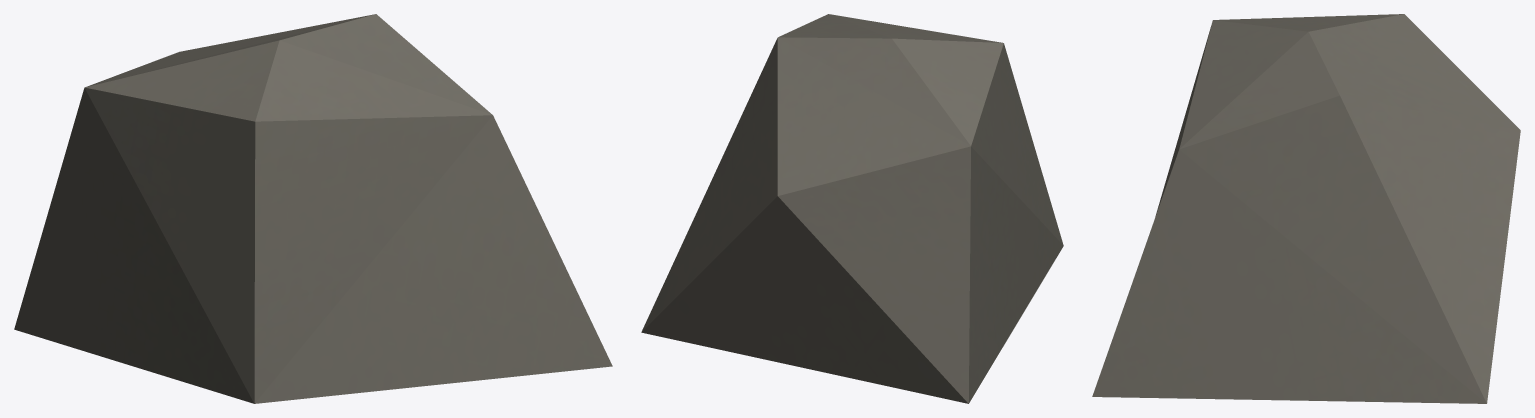
File: Rock_Single_1E.fbx
3 renders of one model, left to right at view 1: azimuth 30°, elevation 25°; view 2: azimuth 150°, elevation 25°; view 3: azimuth 270°, elevation 25°, orthographic. The views are drawn at different scales.
Parts seen in each view (by area): view 1: pCube17; view 2: pCube17; view 3: pCube17.
Boxes of the visible parts, left/top/right/bottom form: pCube17: left=14, top=14, right=612, bottom=403; pCube17: left=641, top=14, right=1063, bottom=403; pCube17: left=1092, top=14, right=1520, bottom=403.
Size of the model in its own units: 79.54 by 60.53 by 81.95.
Materials: 1 (1 with a texture image).
